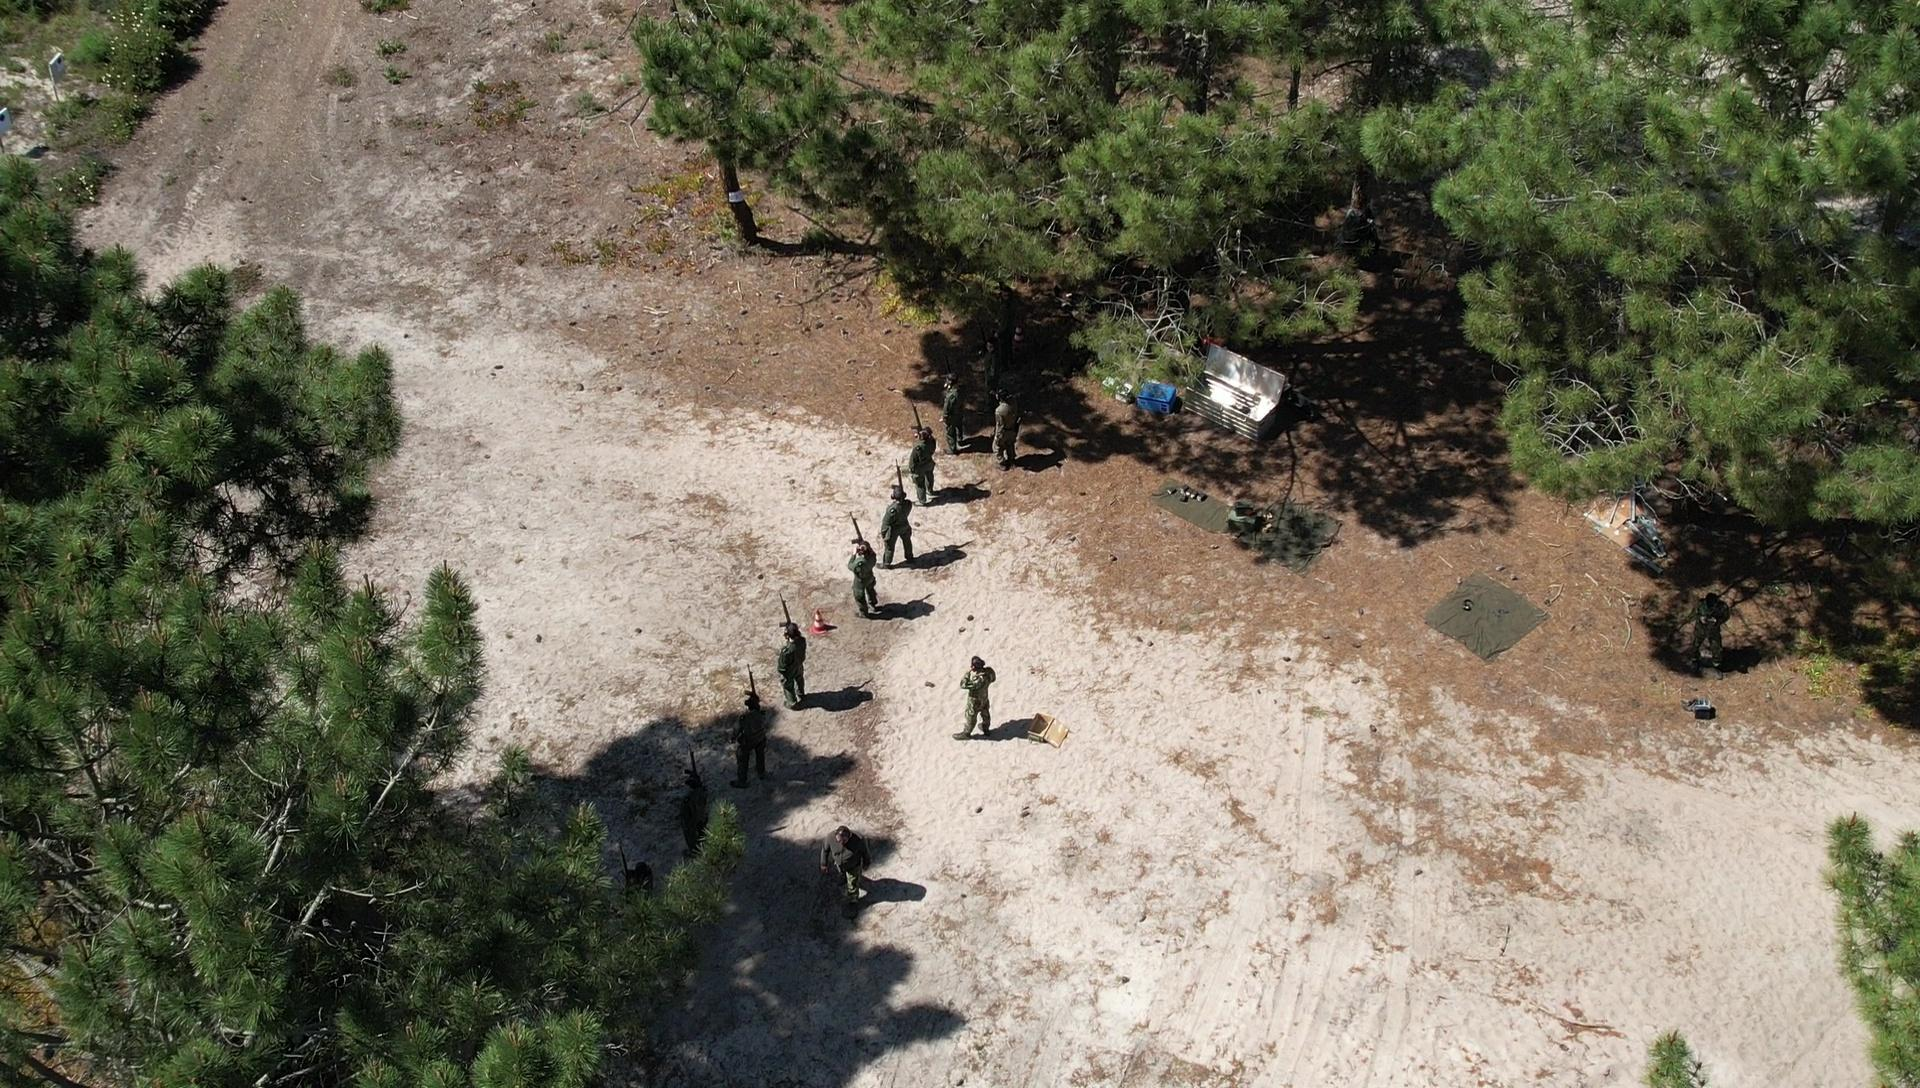Soldier: (724, 674, 781, 806), (1677, 586, 1735, 690), (770, 611, 818, 731), (828, 822, 873, 926), (903, 392, 943, 505), (847, 529, 887, 634), (984, 404, 1029, 499), (957, 657, 1001, 746), (940, 363, 984, 452), (881, 475, 918, 580), (673, 764, 716, 851)
